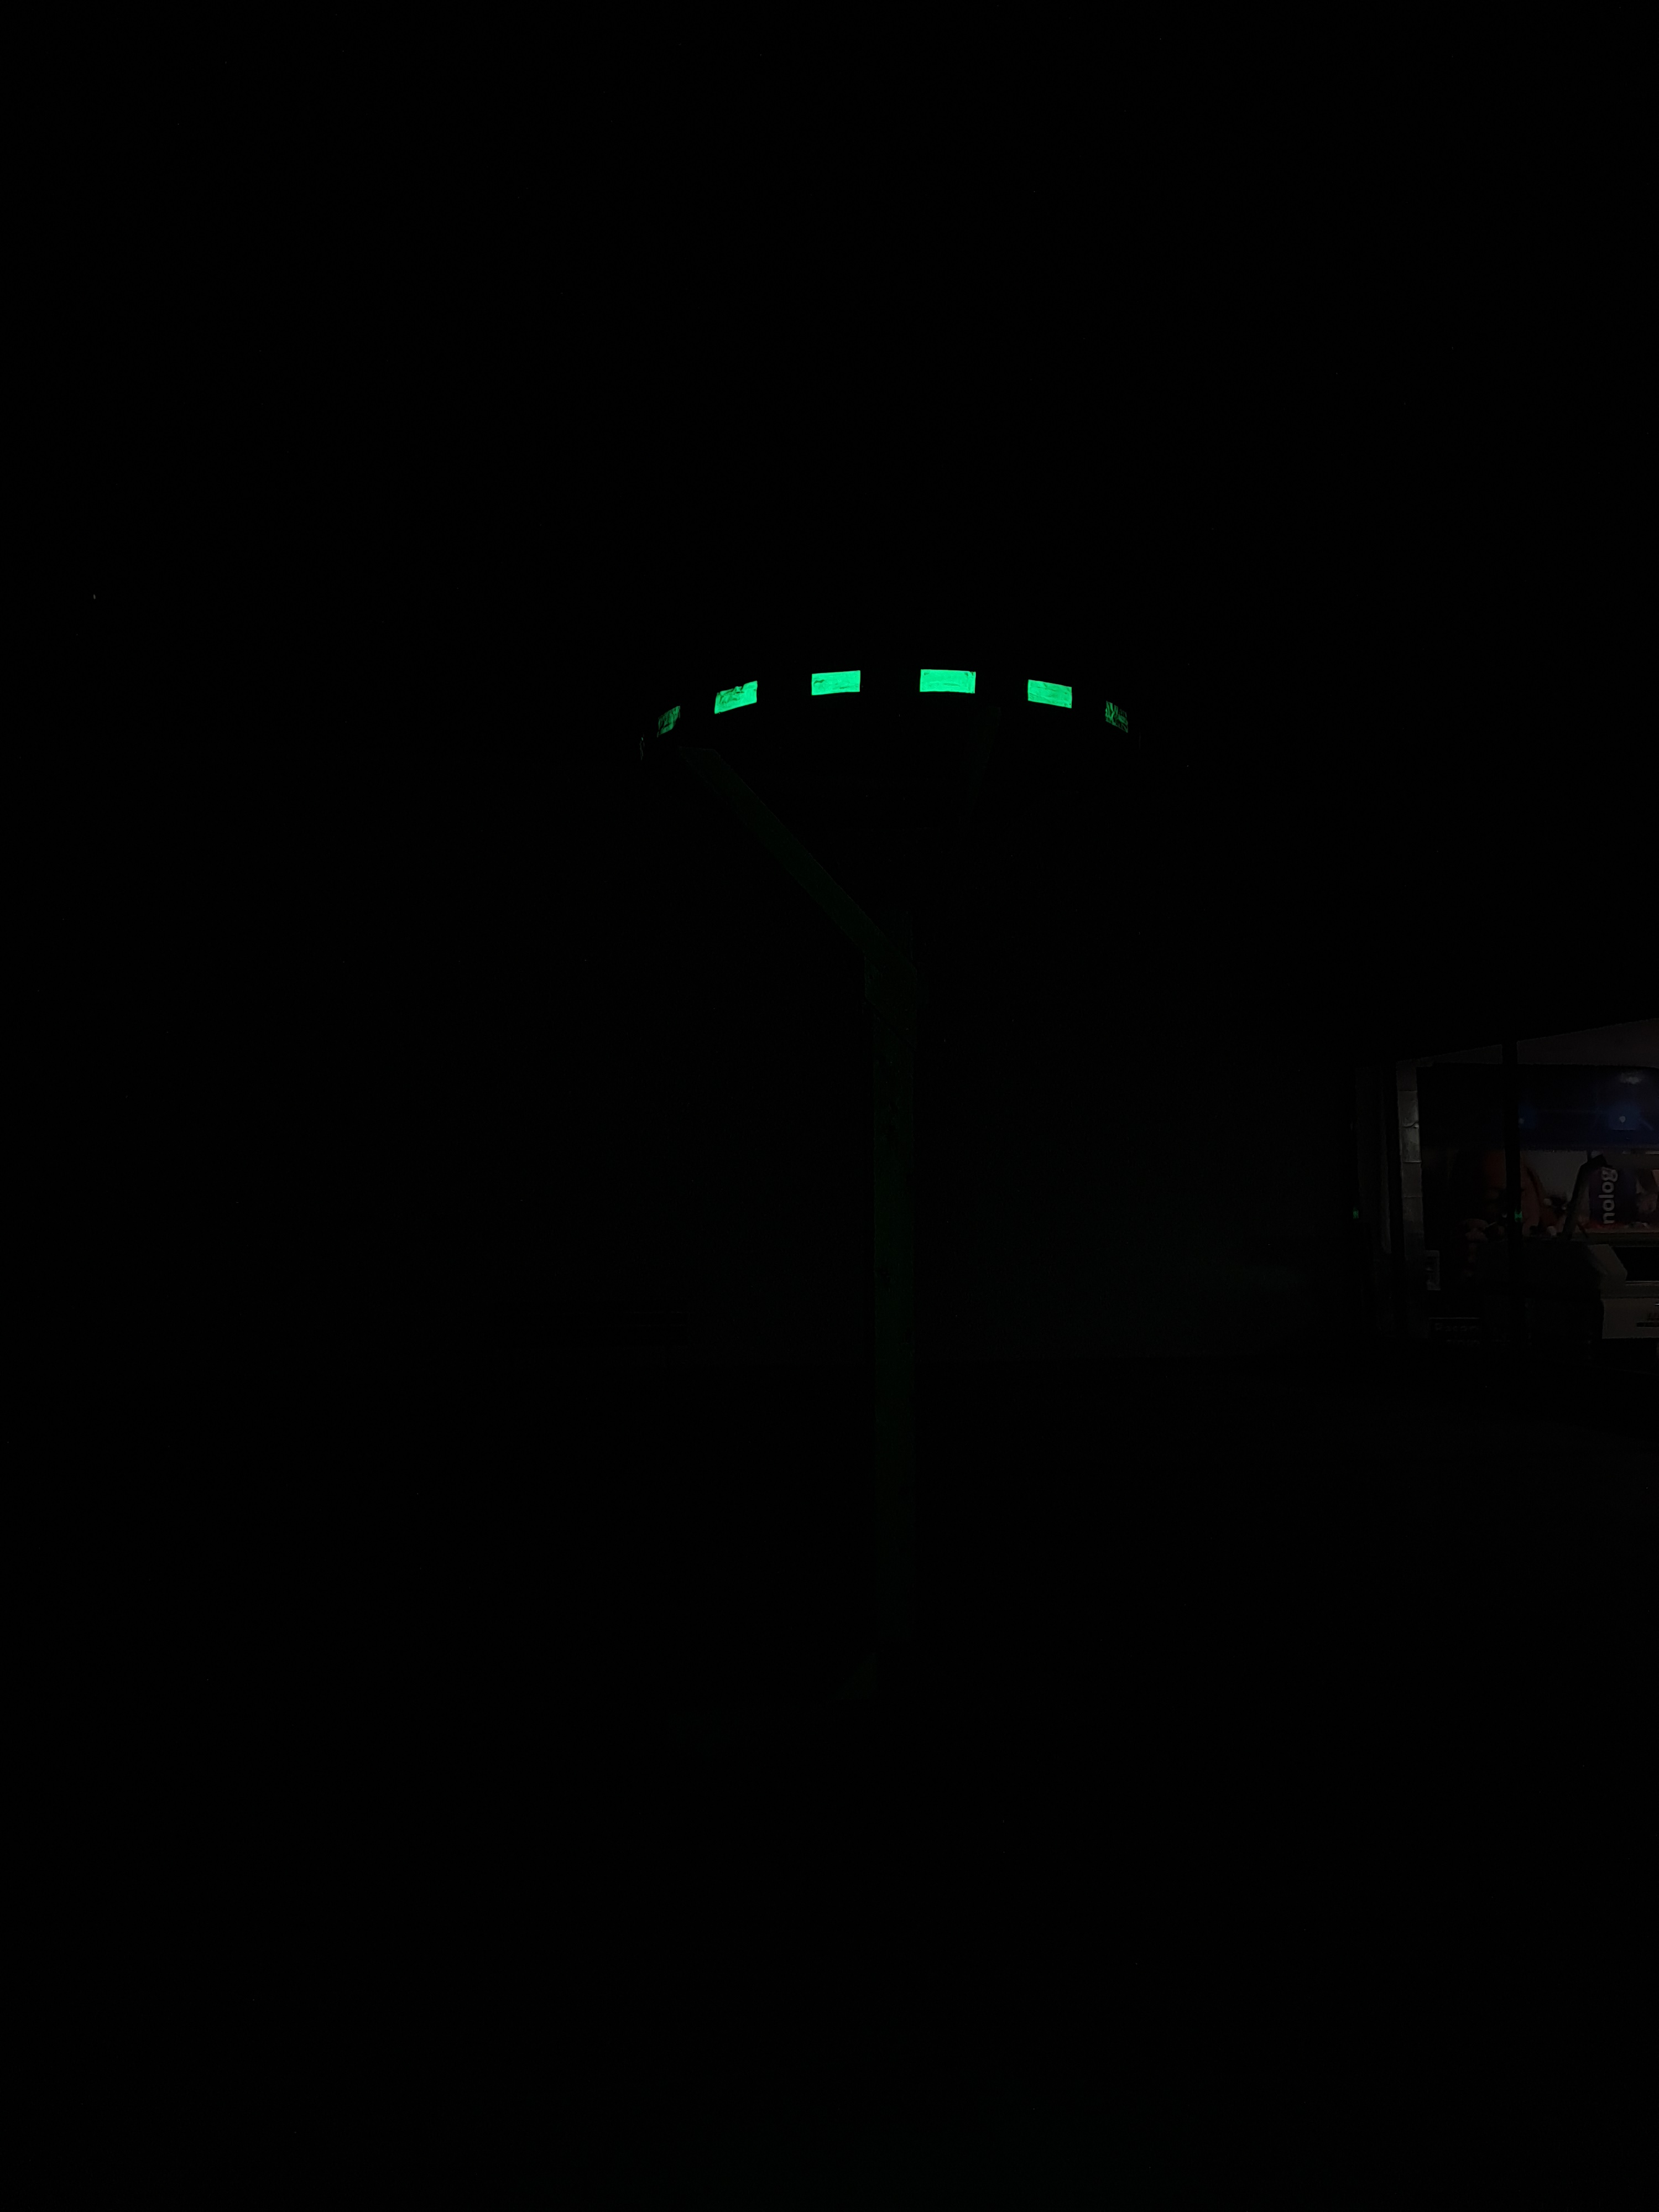hoop: (647, 650, 1140, 752)
